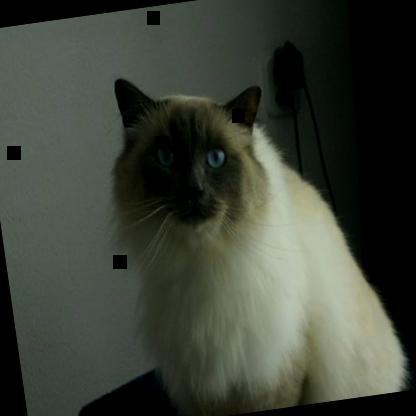cat: (96, 43, 407, 415)
